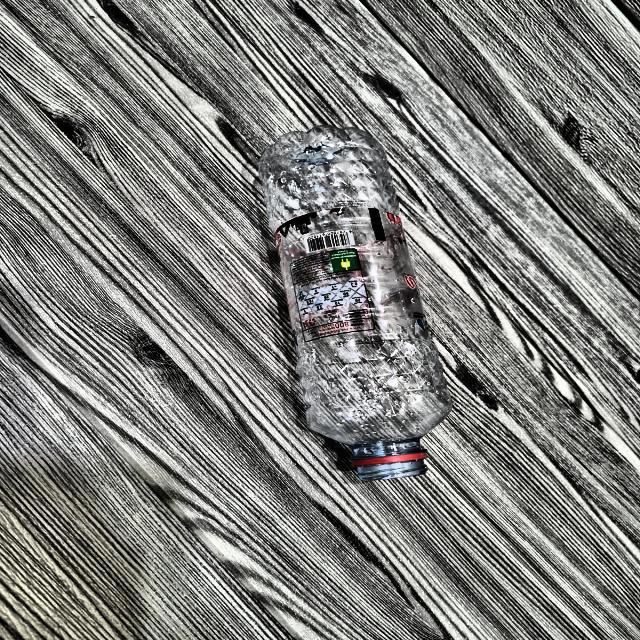Bottles: (224, 111, 483, 507)
